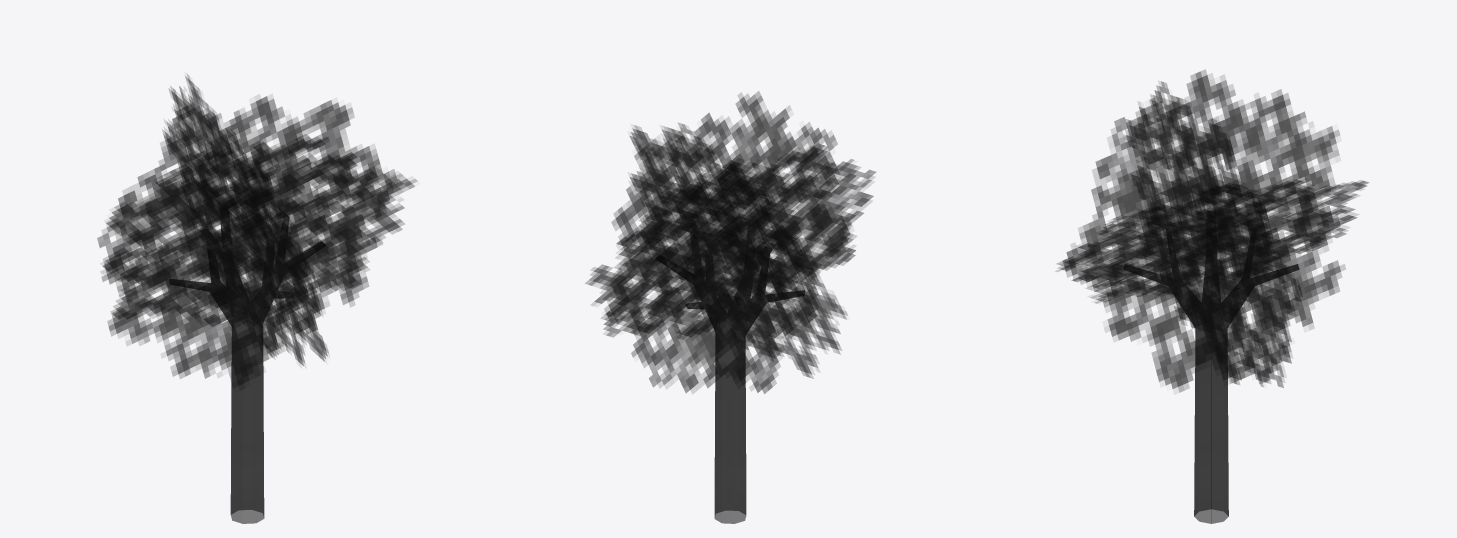
The model's file is glf_tree1__glf_tree1_sh.glb.
The picture shows the model from 3 angles, left to right: view 1: azimuth 30°, elevation 25°; view 2: azimuth 150°, elevation 25°; view 3: azimuth 270°, elevation 25°; orthographic projection. The views are drawn at different scales.
Visible parts, largest first — view 1: polygon0; view 2: polygon0; view 3: polygon0.
Boxes of the visible parts, x1=… form: polygon0: x1=97, y1=74, x2=417, y2=523; polygon0: x1=585, y1=91, x2=875, y2=523; polygon0: x1=1056, y1=69, x2=1368, y2=523.
Bounding box in the file's own units: 248 × 269 × 239.
Materials: 1 (1 with a texture image).
